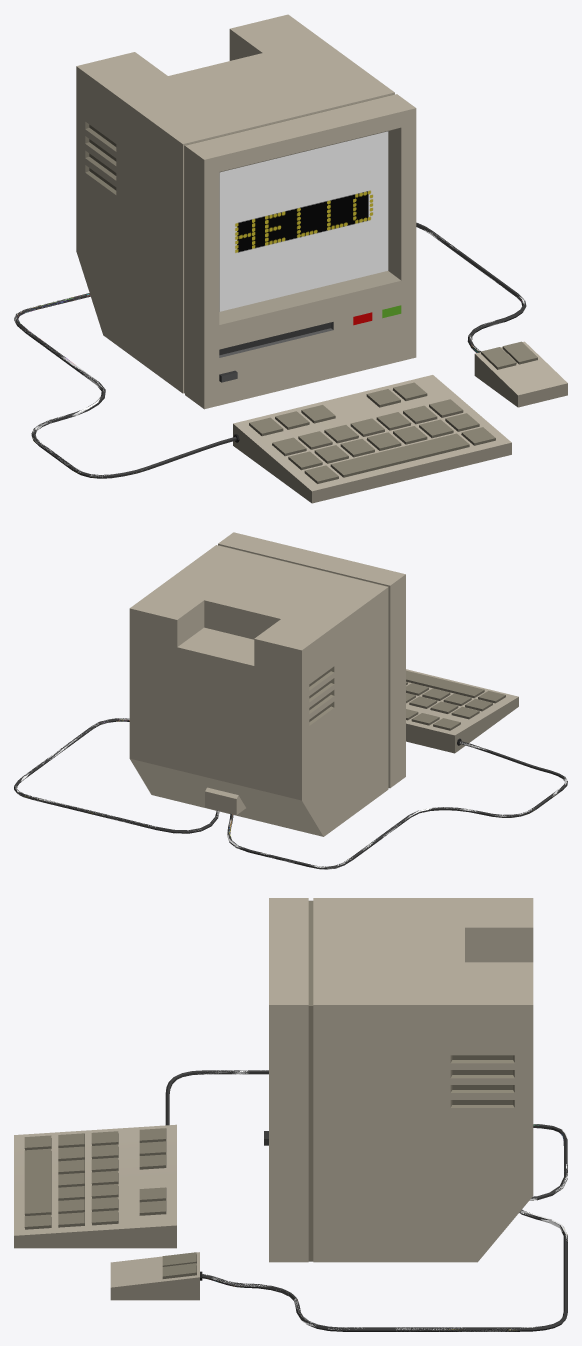
3 renders of one model, top to bottom at view 1: azimuth 30°, elevation 25°; view 2: azimuth 150°, elevation 25°; view 3: azimuth 270°, elevation 25°, orthographic. The views are drawn at different scales.
Visible parts, largest first — view 1: monitor, monitor.001, keyboard.001, keyboard, mouse.001, cabel1, cabel2, mouse, BezierCurve.002; view 2: monitor, keyboard, keyboard.001, cabel1, cabel2, BezierCurve.002, BezierCurve.003; view 3: monitor, keyboard.001, keyboard, mouse.001, cabel2, cabel1, mouse, BezierCurve.003.
Part boxes in pixels (left/top/right/bottom): monitor: left=76, top=14, right=416, bottom=409; monitor.001: left=219, top=131, right=388, bottom=311; keyboard.001: left=233, top=375, right=511, bottom=503; keyboard: left=249, top=382, right=495, bottom=483; mouse.001: left=474, top=341, right=567, bottom=407; cabel1: left=14, top=293, right=236, bottom=478; cabel2: left=416, top=222, right=526, bottom=352; mouse: left=481, top=341, right=537, bottom=369; BezierCurve.002: left=14, top=294, right=197, bottom=478; monitor: left=129, top=532, right=405, bottom=836; keyboard: left=406, top=670, right=505, bottom=730; keyboard.001: left=406, top=669, right=518, bottom=753; cabel1: left=227, top=741, right=567, bottom=869; cabel2: left=14, top=718, right=219, bottom=833; BezierCurve.002: left=227, top=742, right=567, bottom=869; BezierCurve.003: left=14, top=718, right=219, bottom=833; monitor: left=264, top=898, right=533, bottom=1262; keyboard.001: left=14, top=1124, right=176, bottom=1248; keyboard: left=24, top=1128, right=166, bottom=1229; mouse.001: left=110, top=1252, right=199, bottom=1300; cabel2: left=202, top=1209, right=567, bottom=1331; cabel1: left=165, top=1070, right=567, bottom=1200; mouse: left=162, top=1252, right=196, bottom=1278; BezierCurve.003: left=205, top=1210, right=567, bottom=1331.
Size of the model in its own units: 3.03 by 1.41 by 2.74.
Materials: 11 (11 with a texture image).
